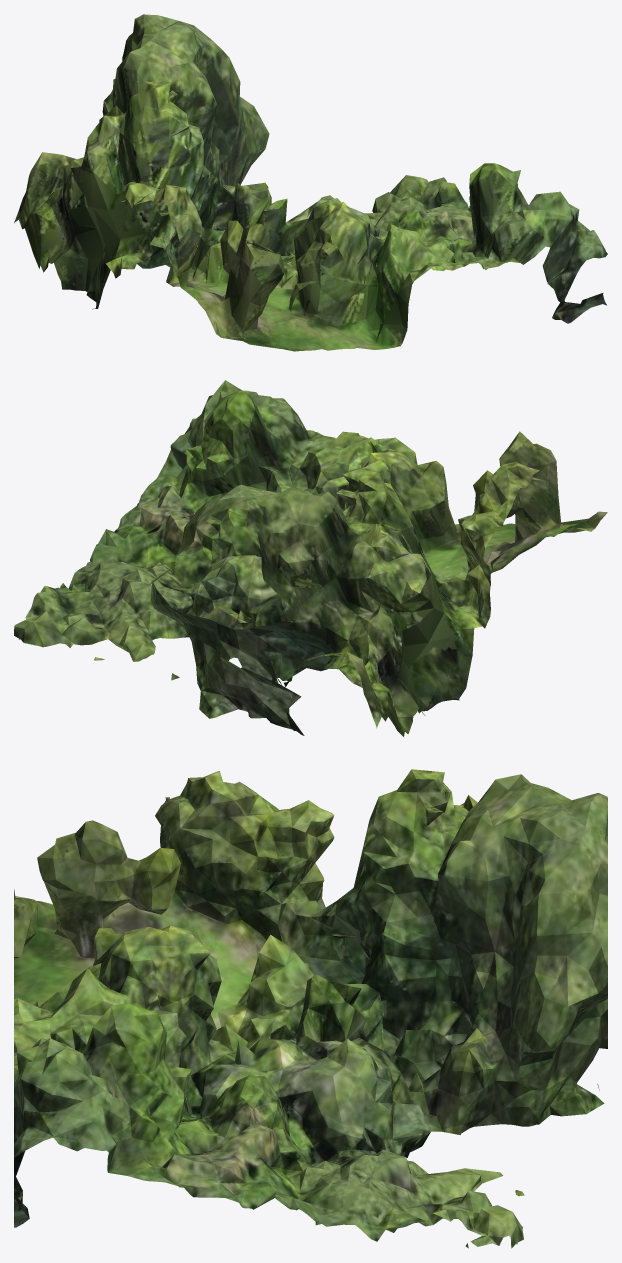
3 views of the same model, one above another, from view 1: azimuth 30°, elevation 25°; view 2: azimuth 150°, elevation 25°; view 3: azimuth 270°, elevation 25° (orthographic). The views are drawn at different scales.
Size of the model in its own units: 26.11 by 14.02 by 26.11.
Materials: 5 (5 with a texture image).
